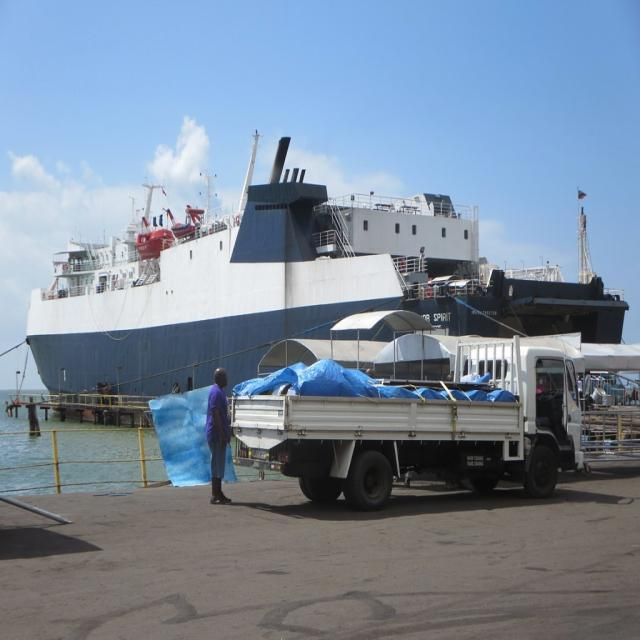Heavy Duty Truck: (230, 338, 590, 514)
Pedestrians: (206, 365, 232, 507)
